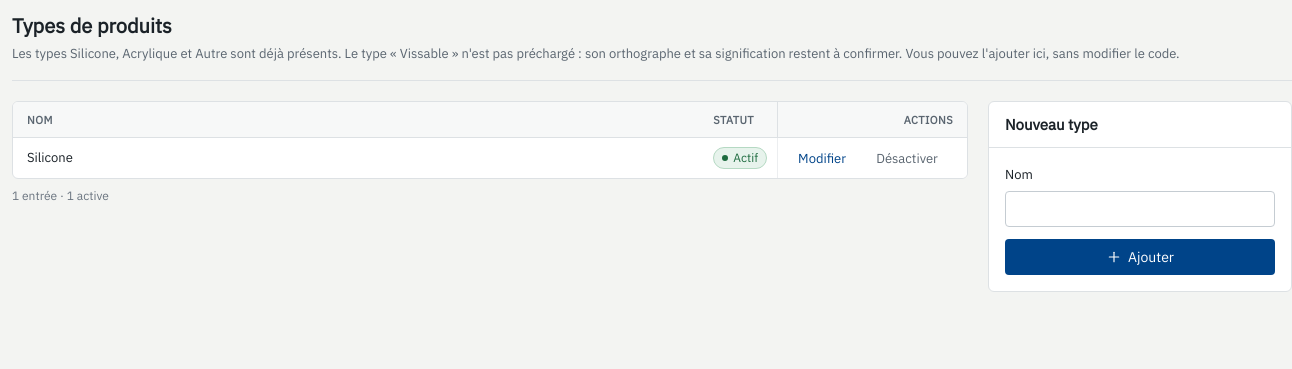
Test case: types et fournisseurs › ajoute, modifie et désactive un type
Check: the text "Silicone" is shown, box x1=27 y1=149 x2=73 y2=166
Check: the text "Vissable" is shown, box x1=12 y1=45 x2=1180 y2=62
Type "Mousse" into the field labelled "Nom".
click(1140, 209); type("Mousse")  # box x1=1005 y1=191 x2=1275 y2=227
Click the button "Ajouter".
click(1140, 257)  # box x1=1005 y1=239 x2=1275 y2=275
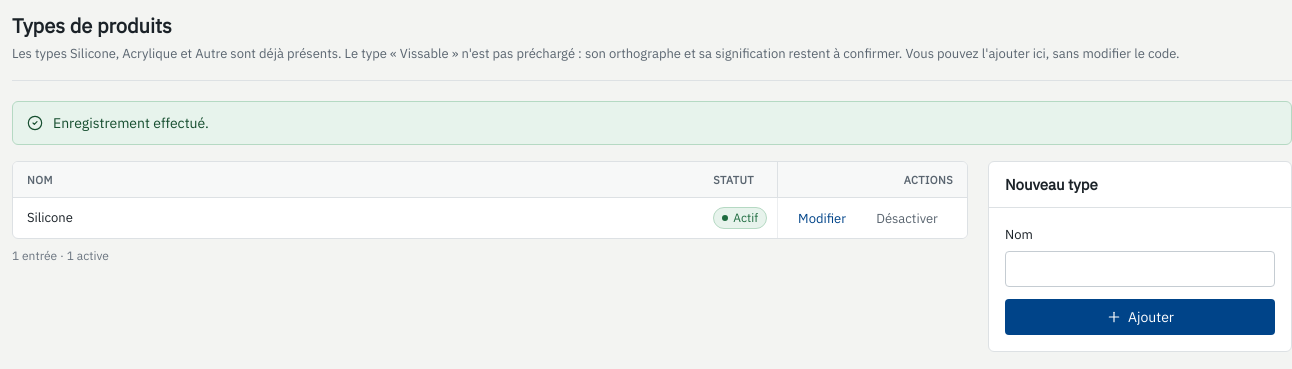
Check: the message reads "Enregistrement effectué.", box x1=53 y1=114 x2=209 y2=132
Click the button "Modifier".
click(822, 218)  # box x1=787 y1=204 x2=857 y2=232
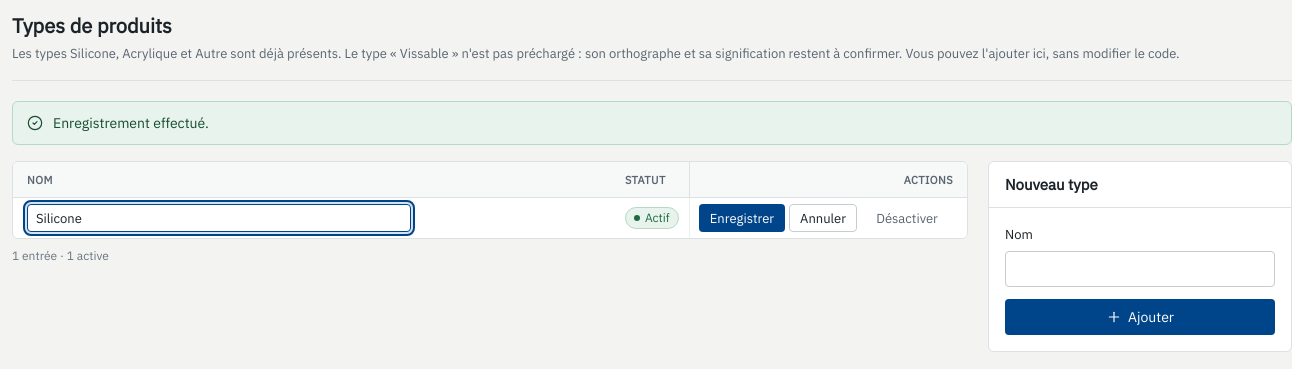
Replace the text in the field named "Nouveau nom" with "Mousse PU" at (219, 218), box x1=27 y1=204 x2=411 y2=232
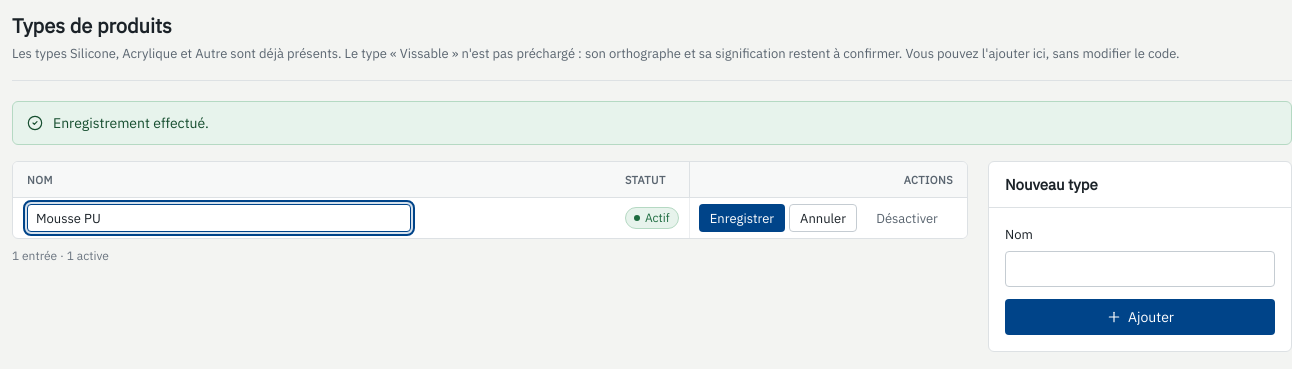
Click the button "Enregistrer".
click(742, 218)  # box x1=699 y1=204 x2=785 y2=232
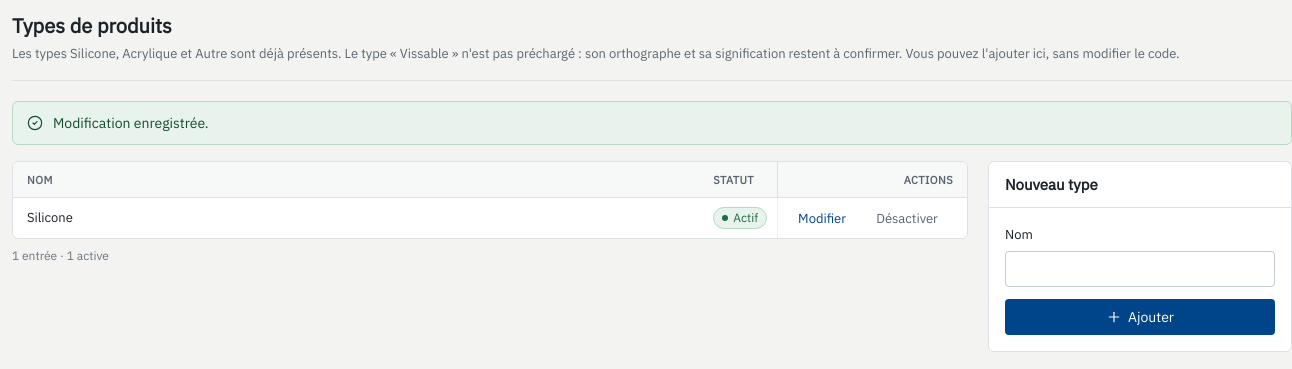
Check: the text "Modification enregistrée." is shown, box x1=53 y1=114 x2=209 y2=132
Click the button "Désactiver".
click(907, 218)  # box x1=861 y1=204 x2=953 y2=232
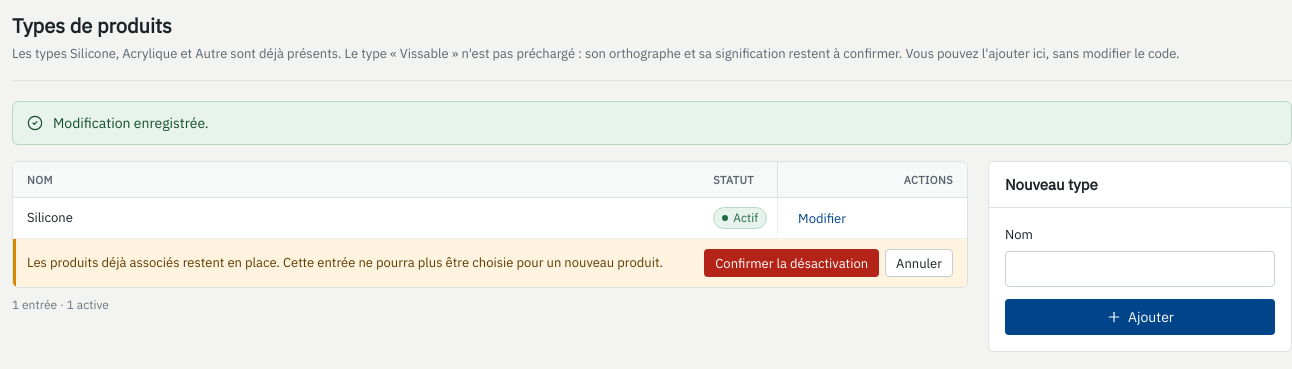
Check: the text "produits déjà associés restent en place" is shown, box x1=27 y1=254 x2=663 y2=271
Click the button "Confirmer la désactivation".
click(792, 263)  # box x1=704 y1=249 x2=879 y2=277
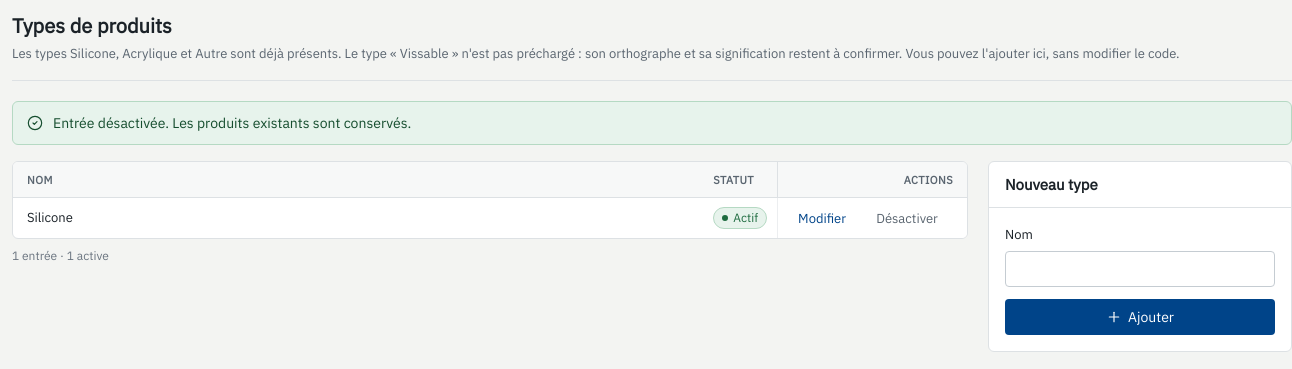
Check: the text "Entrée désactivée. Les produits existants sont conservés." is shown, box x1=53 y1=114 x2=411 y2=132
